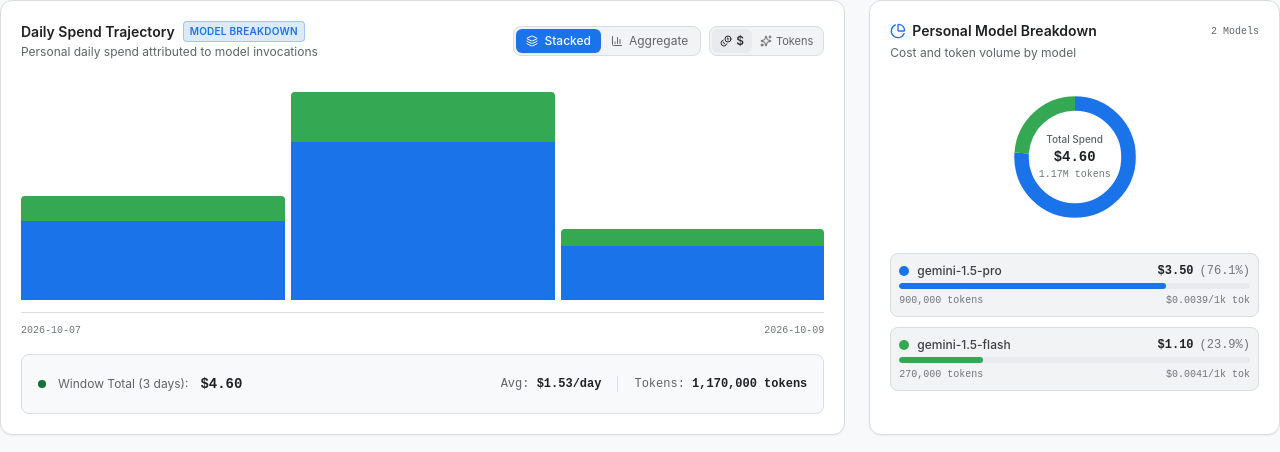
PersonalCostChart Component › switches between stacked and aggregate chart modes
This screenshot has width=1280, height=452.
Click Aggregate
Click the button "Aggregate": (650, 40) left=601, top=28, right=698, bottom=52
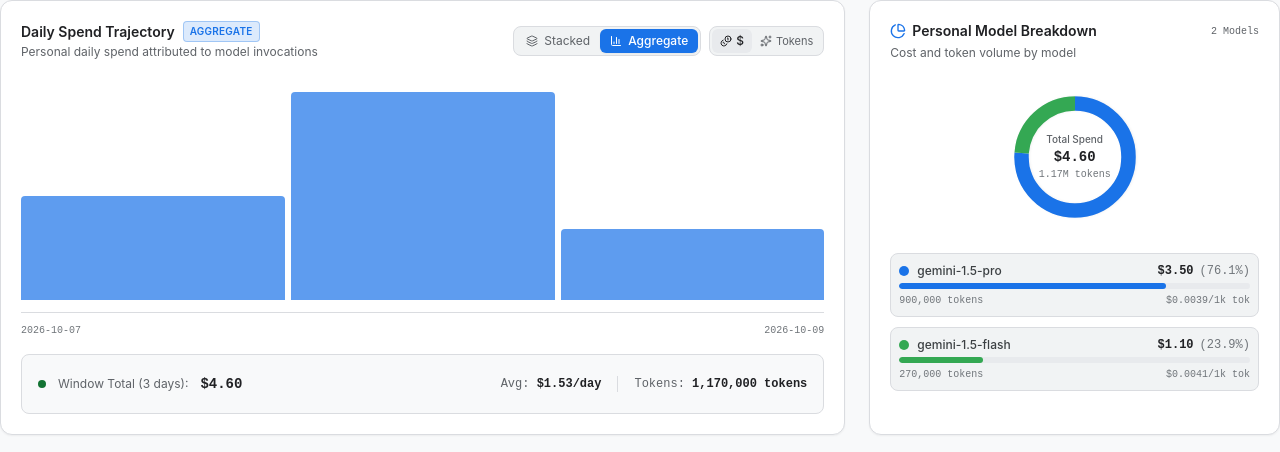
Click Stacked
Click the button "Stacked": (558, 40) left=516, top=28, right=600, bottom=52
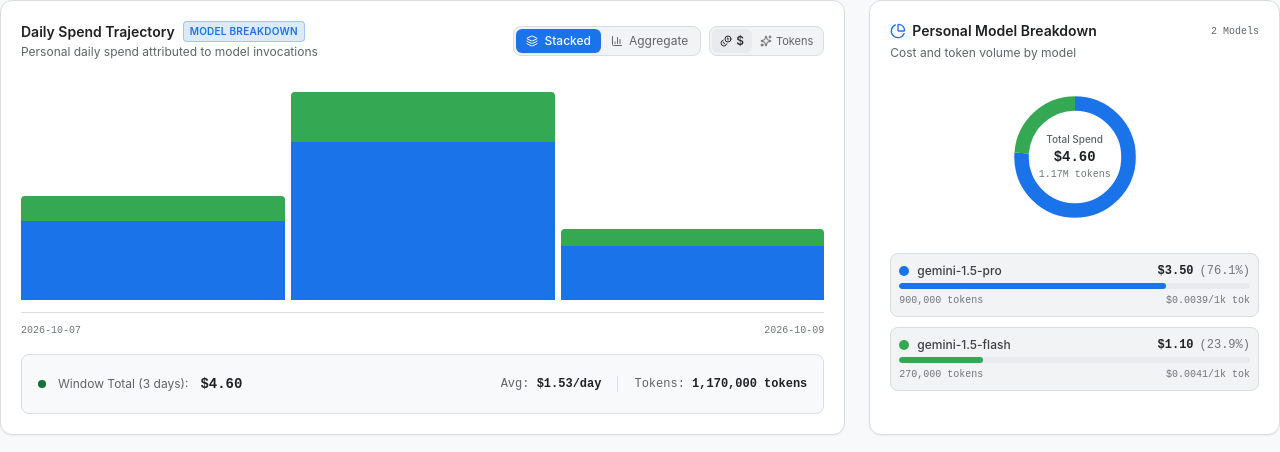
Expected: the text "Model Breakdown" is shown, left=183, top=21, right=305, bottom=42
